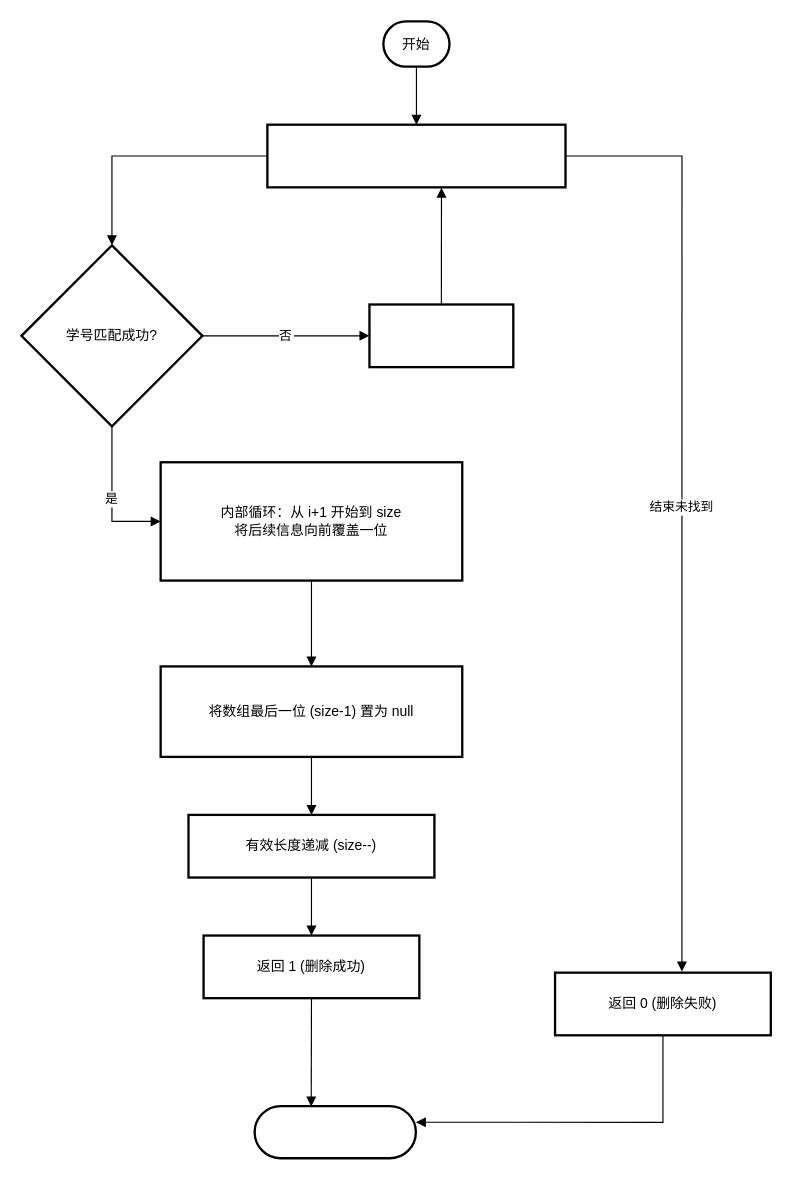
Some shapes in this 791 by 1179 pixel diagram are drawn without their labels. The shapes that lost their labels are listed below. From the top down, each one's centre as x and y in pixels, then its label:
At (x=416, y=155): "在 size 范围内查找匹配学号".
At (x=441, y=335): "继续查找".
At (x=334, y=1131): "结束".
